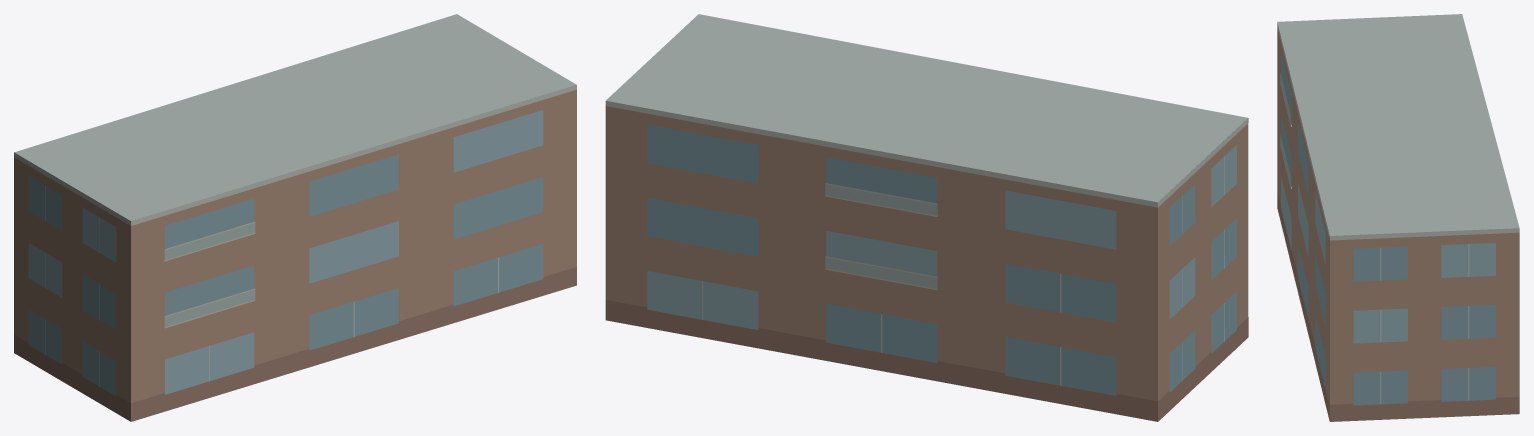
File: survey-upis-32633396.glb
3 renders of one model, left to right at view 1: azimuth 30°, elevation 25°; view 2: azimuth 150°, elevation 25°; view 3: azimuth 270°, elevation 25°, orthographic. The views are drawn at different scales.
Parts seen in each view (by area): view 1: survey-upis-32633396.tmp; view 2: survey-upis-32633396.tmp; view 3: survey-upis-32633396.tmp.
Part boxes in pixels (<box>): survey-upis-32633396.tmp: <box>14,14,576,421</box>; survey-upis-32633396.tmp: <box>605,14,1248,421</box>; survey-upis-32633396.tmp: <box>1277,14,1519,421</box>.
Bounding box in the file's own units: 25.89 × 10.1 × 11.95.
